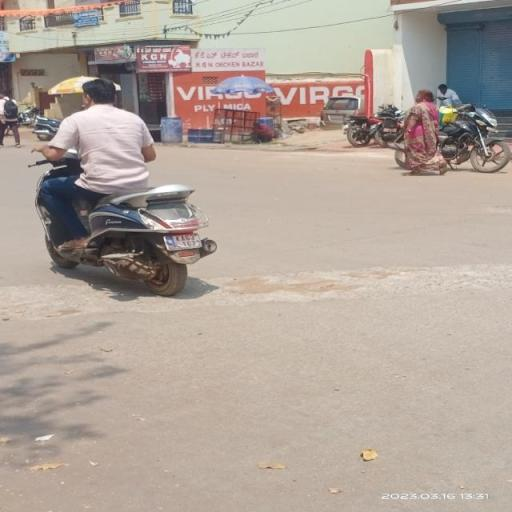bike: (22, 76, 224, 298)
numberplate: (160, 222, 208, 256)
withouthelmet: (81, 81, 117, 104)
